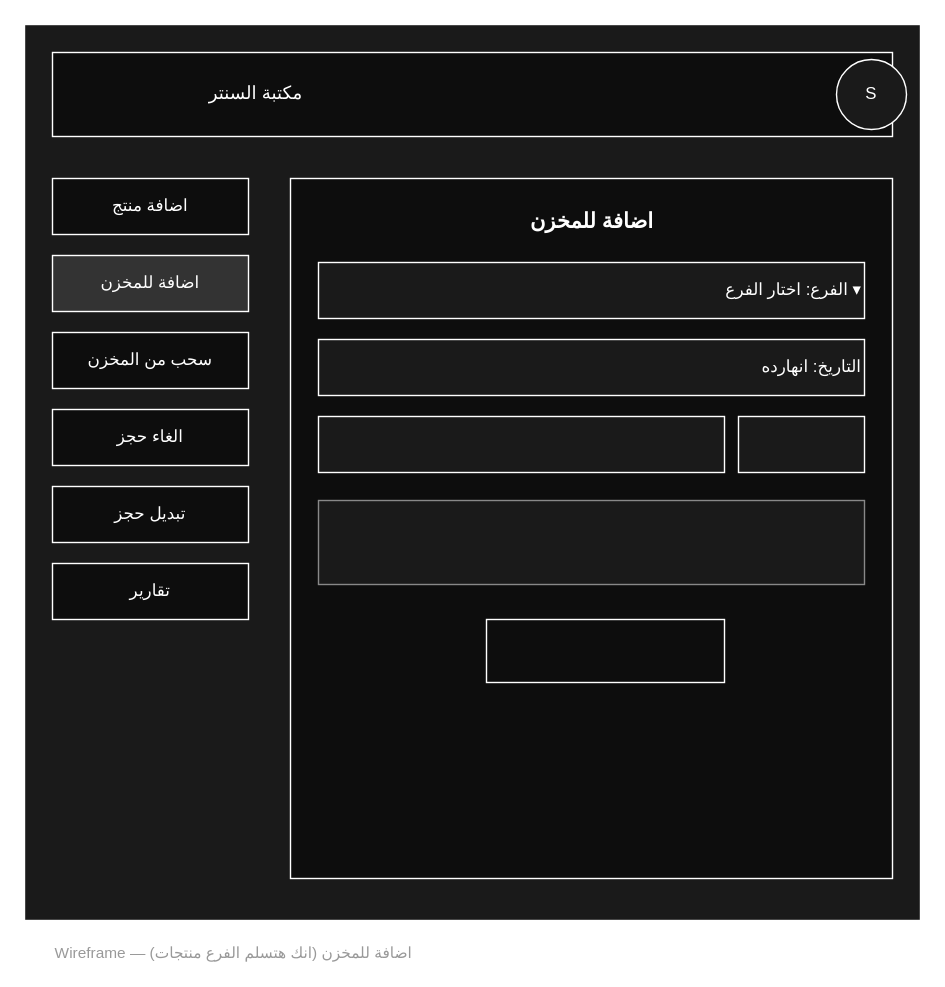
Some shapes in this 945 by 987 pixel diagram are drawn without their labels. The shapes that lost their labels are listed below. From the top down, each one's box as (x1, y1, x2, y2) in pixels, then its label:
(317, 415, 724, 472): المنتج: اختار المنتج ▾
(737, 415, 864, 472): الكمية: ___
(317, 499, 864, 584): | المنتج | الكمية المُسلّمة | | كتاب X | 10 |
(485, 618, 724, 682): تسليم المنتجات للفرع
